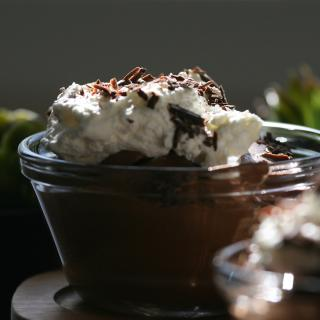Ice cream: (4, 52, 290, 294)
